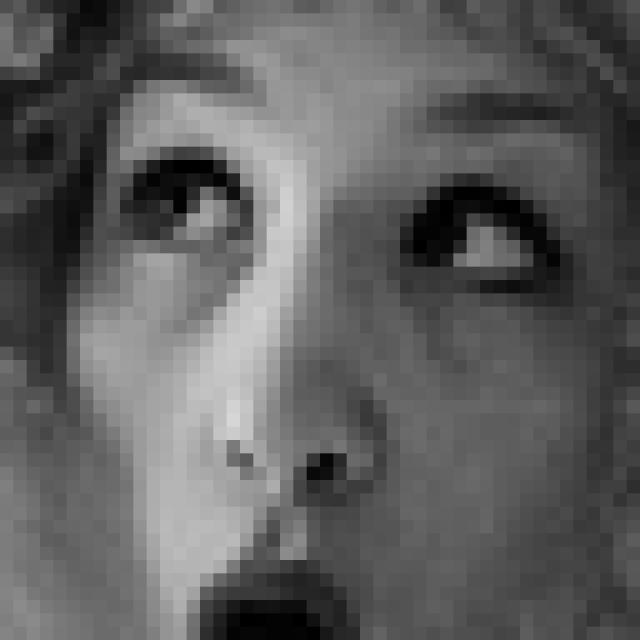surprise: (103, 52, 600, 640)
